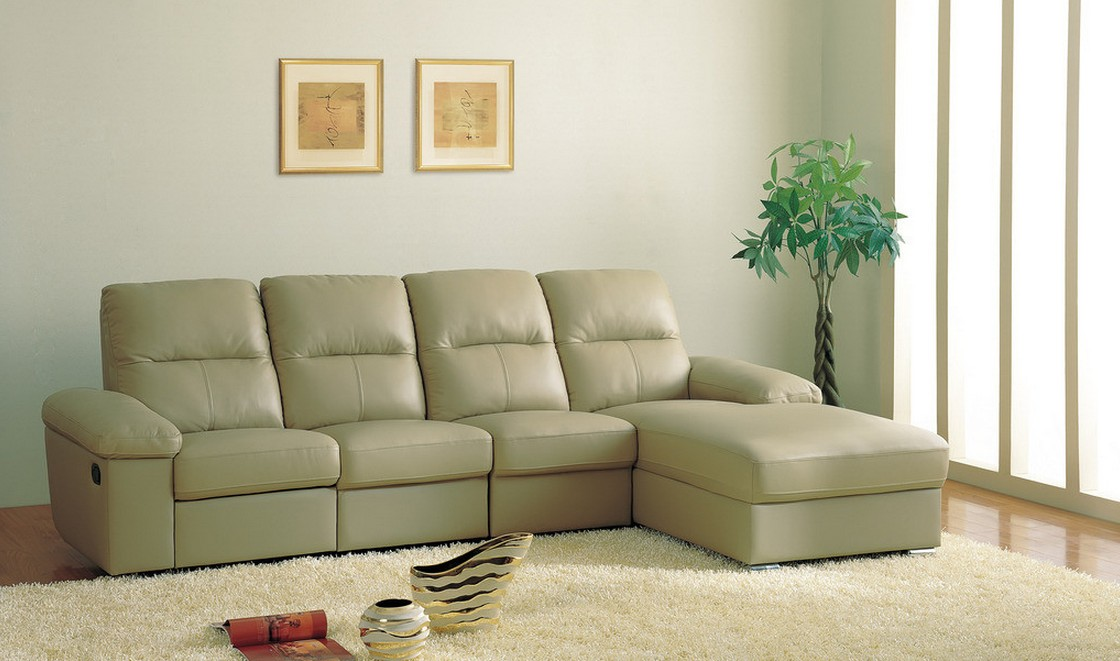chairs: (41, 263, 954, 583)
